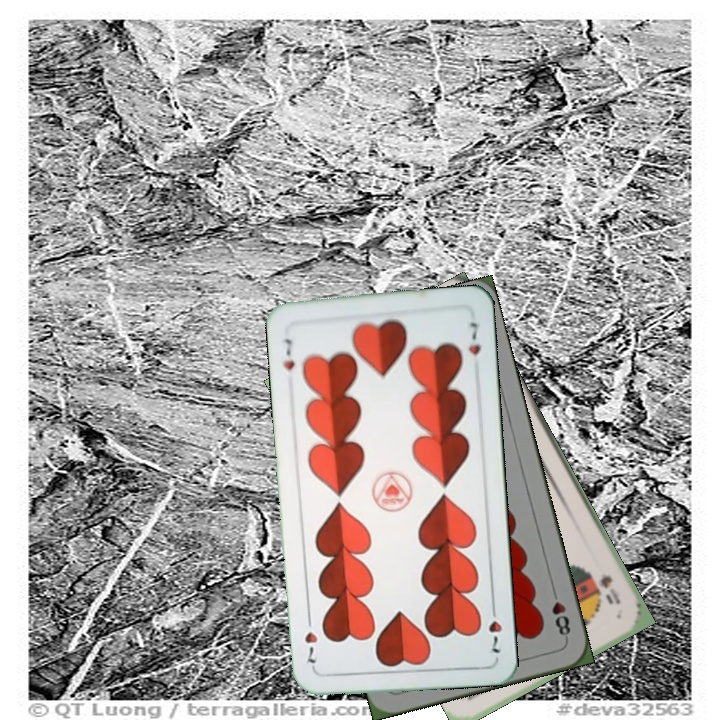H7: (485, 600, 505, 656), (279, 334, 297, 373)
H8: (547, 584, 573, 642)
SO: (596, 570, 623, 608)
